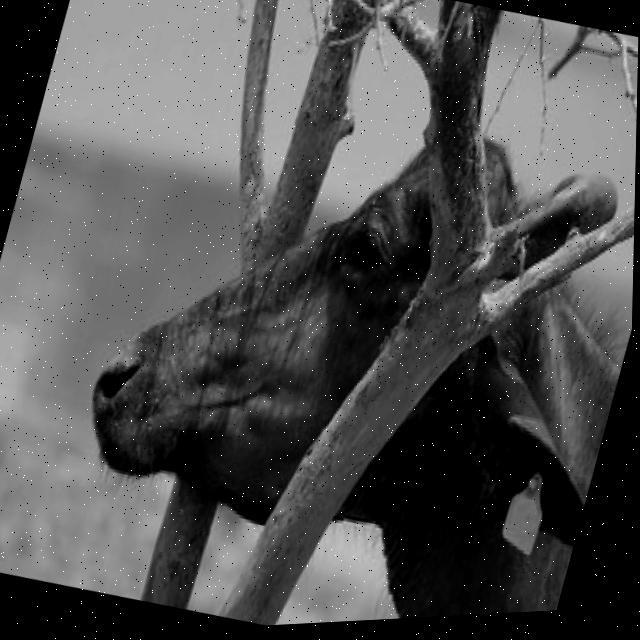Buffalo: (38, 42, 638, 637)
